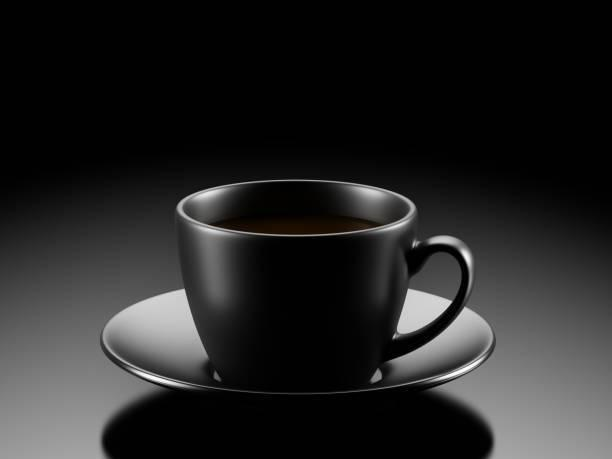cup-handle: (174, 178, 475, 393)
